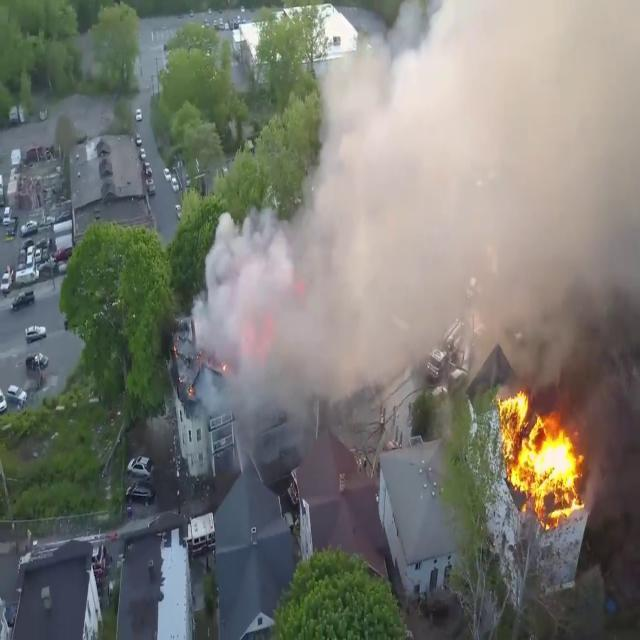Fire: (494, 380, 586, 520)
Smoke: (189, 0, 640, 434)
